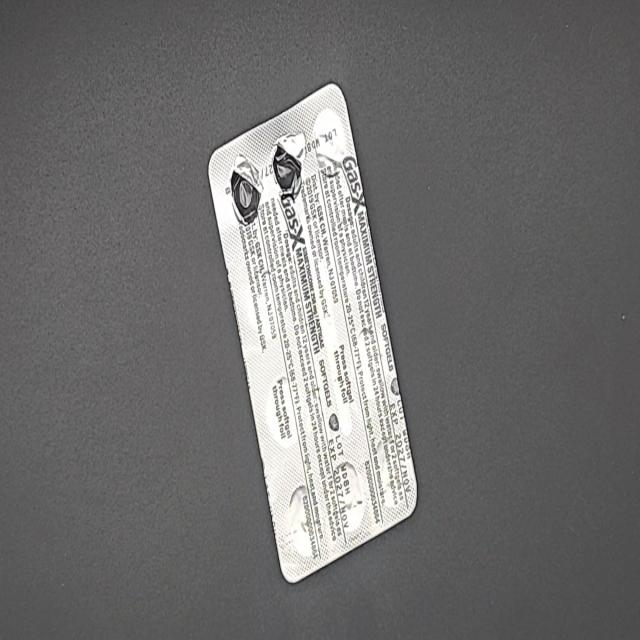defect: (268, 129, 306, 203), (228, 152, 262, 228)
